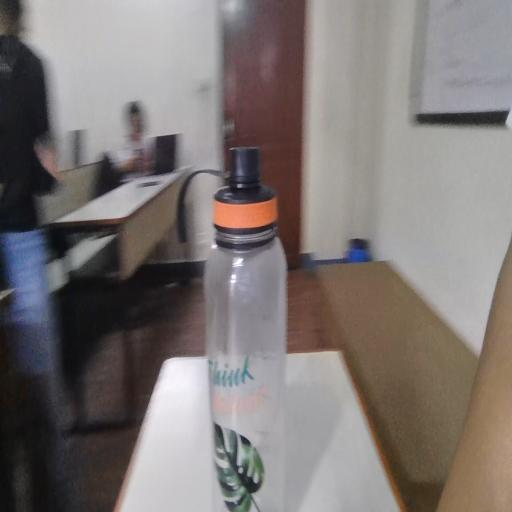Bottle: (186, 145, 310, 506)
